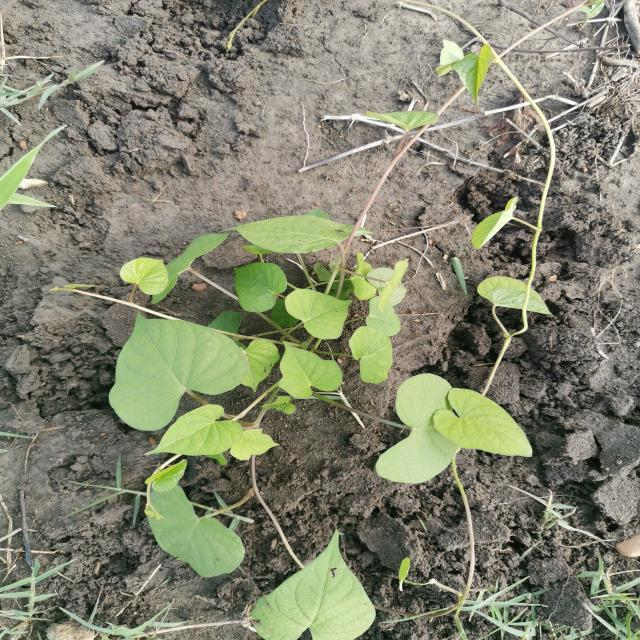MorningGlory: (48, 38, 559, 639)
